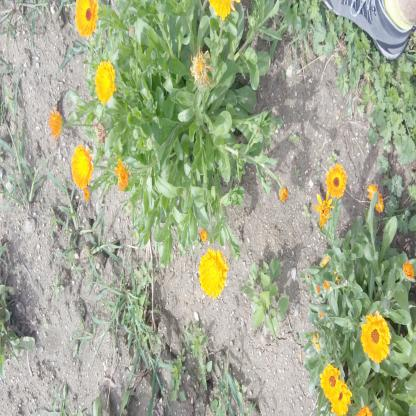marigold: (362, 315, 390, 363), (200, 250, 226, 298), (71, 147, 94, 187), (75, 0, 98, 37), (96, 62, 115, 102), (320, 365, 342, 399), (330, 383, 351, 414), (326, 164, 345, 198), (368, 184, 384, 212)
